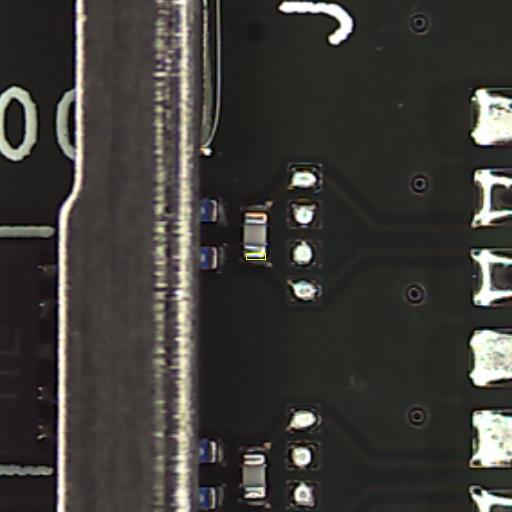bottom_layer: (240, 447, 268, 505), (242, 205, 269, 263)
top_layer: (243, 454, 266, 498), (244, 212, 266, 257)
